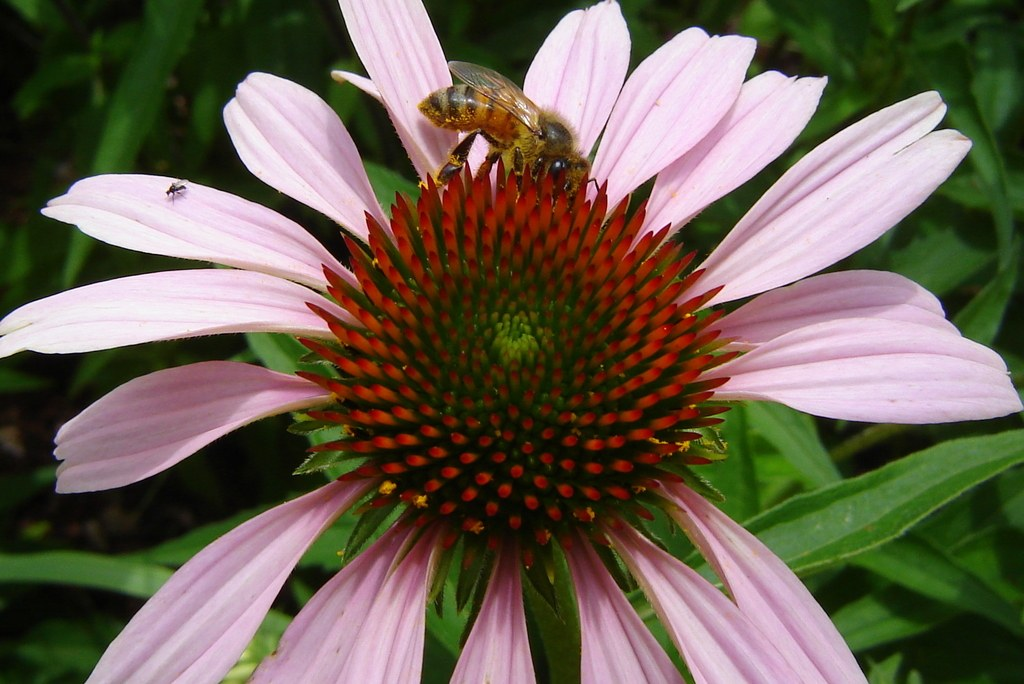bee: (409, 60, 596, 192)
